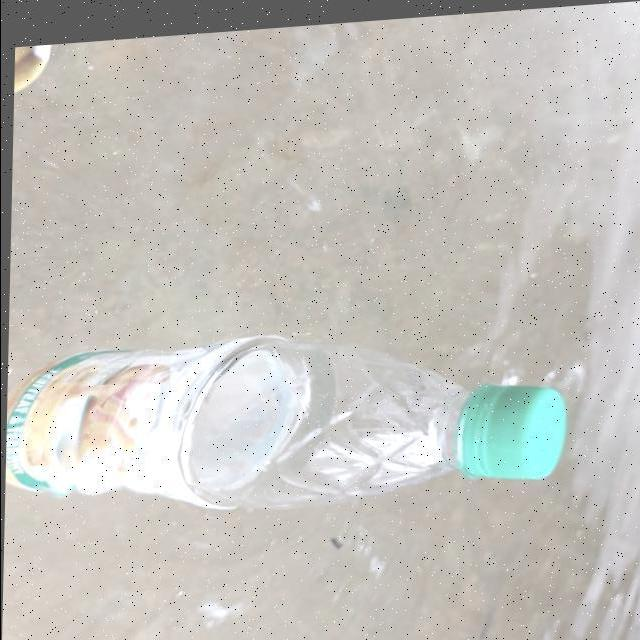Bottle: (0, 327, 575, 520)
